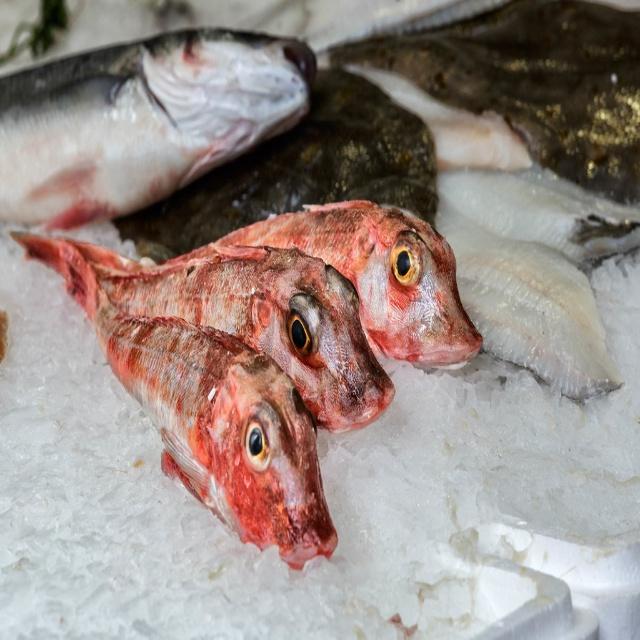Fish: (0, 1, 640, 571)
